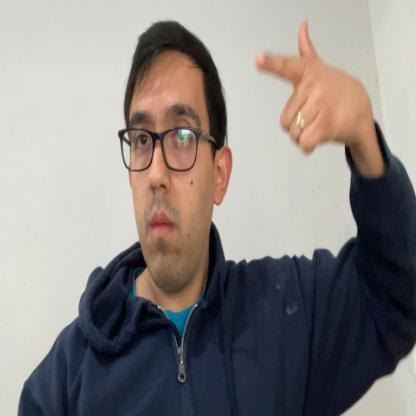G: (256, 18, 348, 156)
